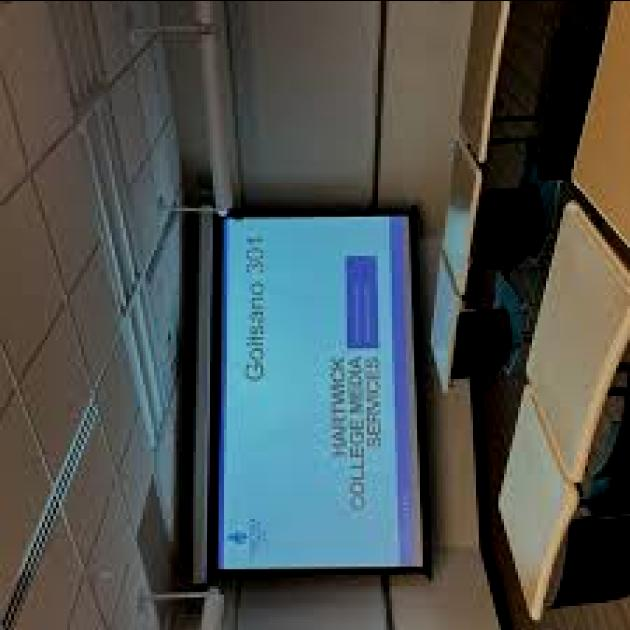projector: (143, 160, 466, 619)
